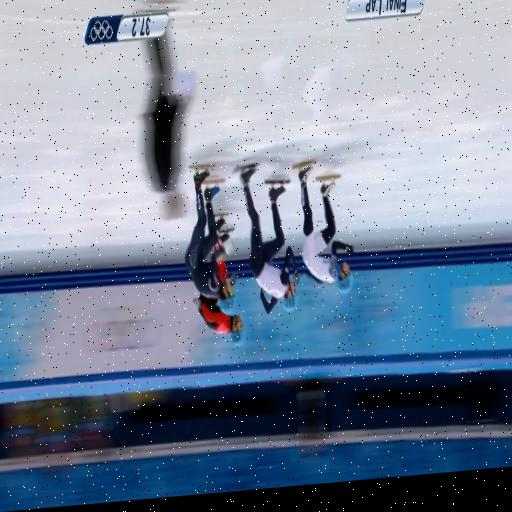Skater: (233, 164, 298, 312), (293, 161, 352, 293), (185, 165, 234, 313), (194, 293, 243, 345)
